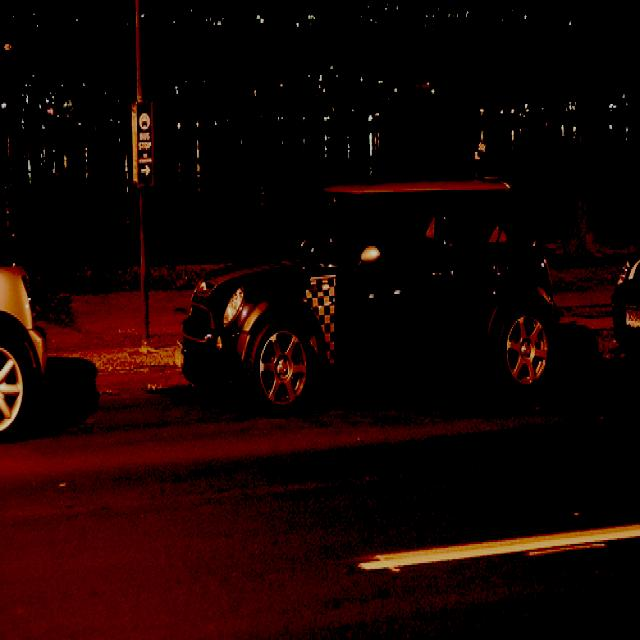Car: (184, 183, 561, 414)
